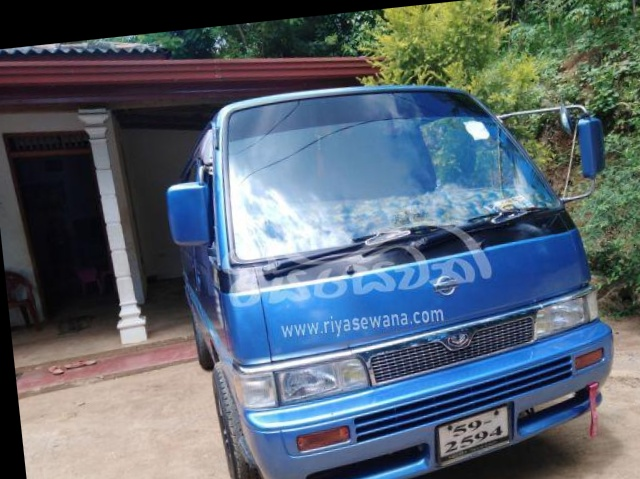van: (133, 51, 640, 479)
